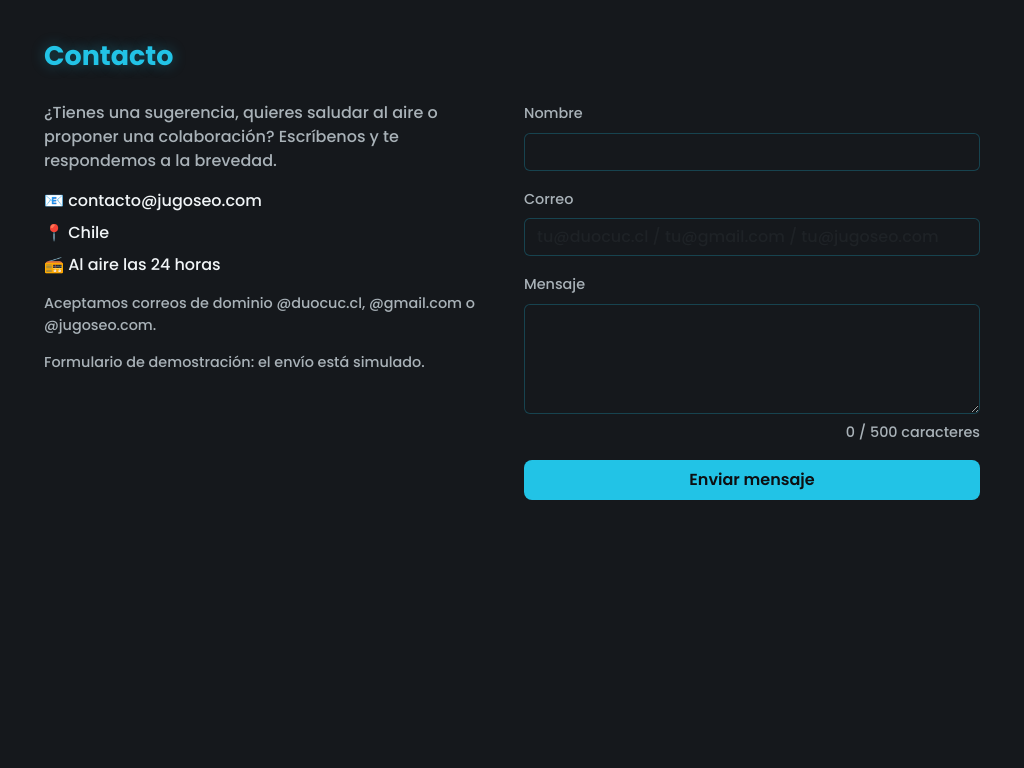
Contacto › retira el aviso de éxito al comenzar un nuevo mensaje
The width and height of the screenshot is (1024, 768).
Type "Ana Pérez" into the field labelled "Nombre". click: (752, 152)
box: x1=524 y1=133 x2=980 y2=171
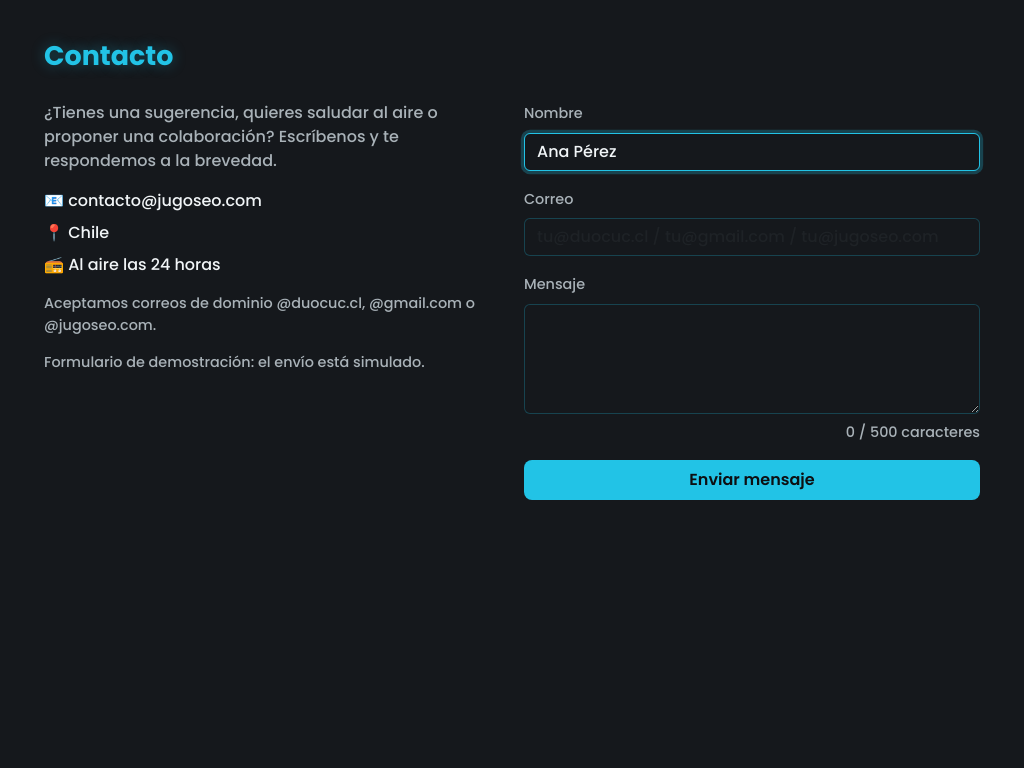
Type "ana@gmail.com" into the field labelled "Correo". click: (752, 237)
box: x1=524 y1=218 x2=980 y2=256
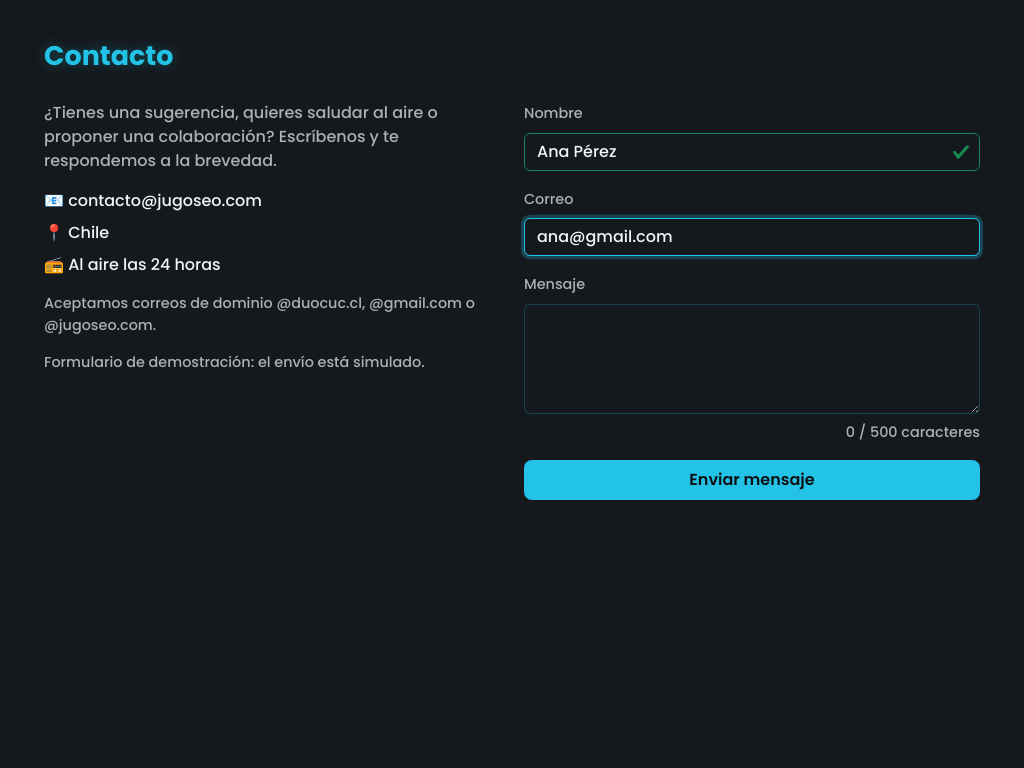
Type "Me gustaría proponer un nuevo programa." into the text box labelled "Mensaje". click: (752, 359)
box: x1=524 y1=304 x2=980 y2=414
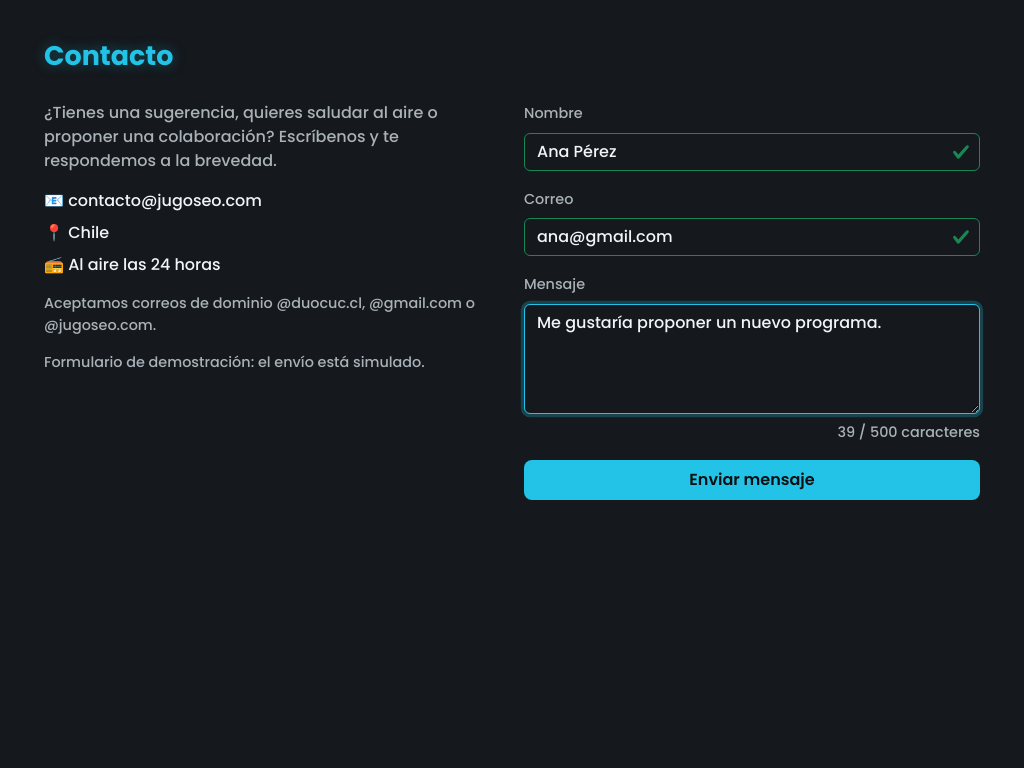
Click the button "Enviar mensaje". click: (752, 480)
box: x1=524 y1=460 x2=980 y2=500
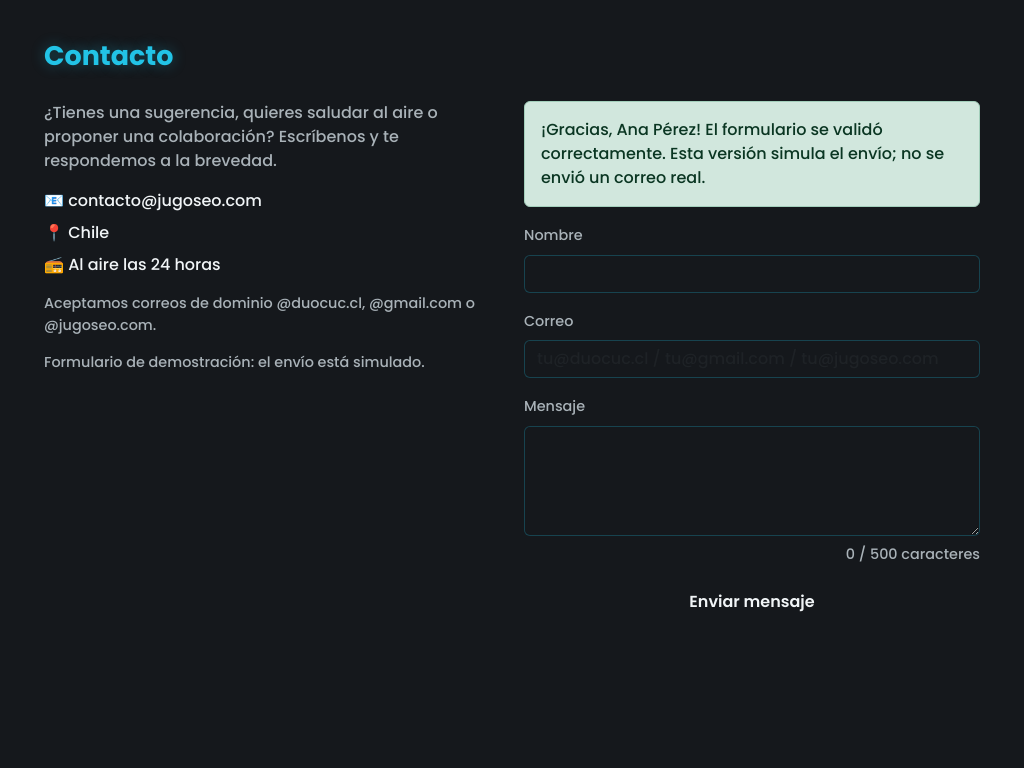
Type "Pedro" into the field labelled "Nombre". click: (752, 274)
box: x1=524 y1=255 x2=980 y2=293
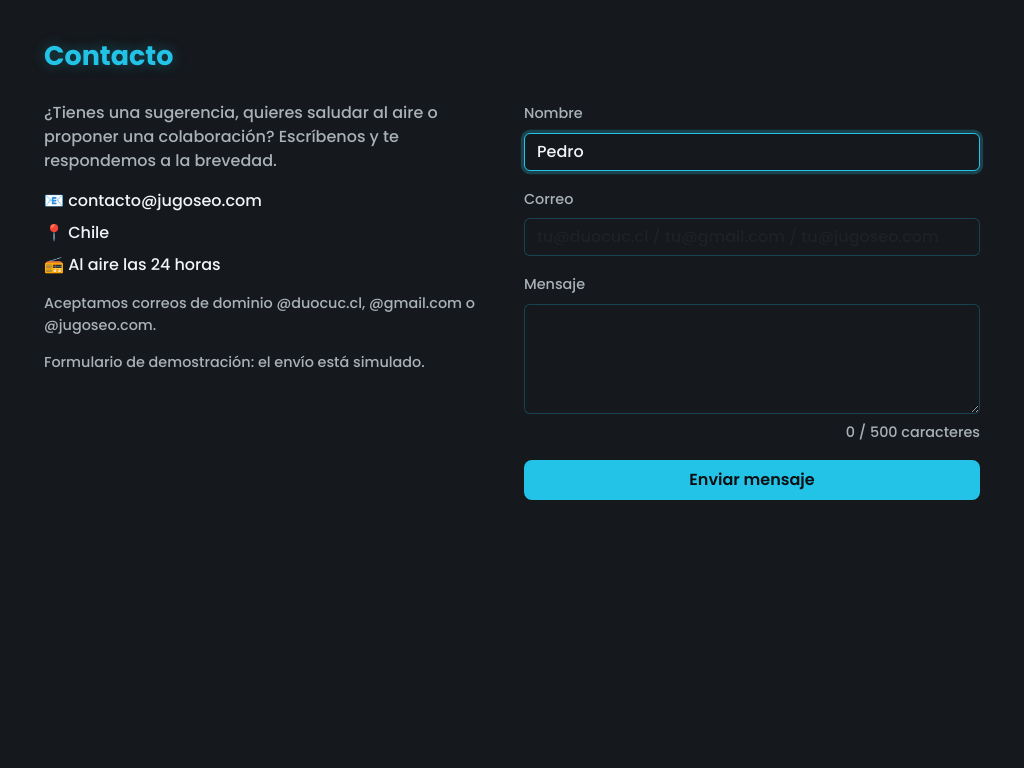
Result: the message "¡Gracias, Ana Pérez! El formulario se validó correctamente. Esta versión simula" is gone
